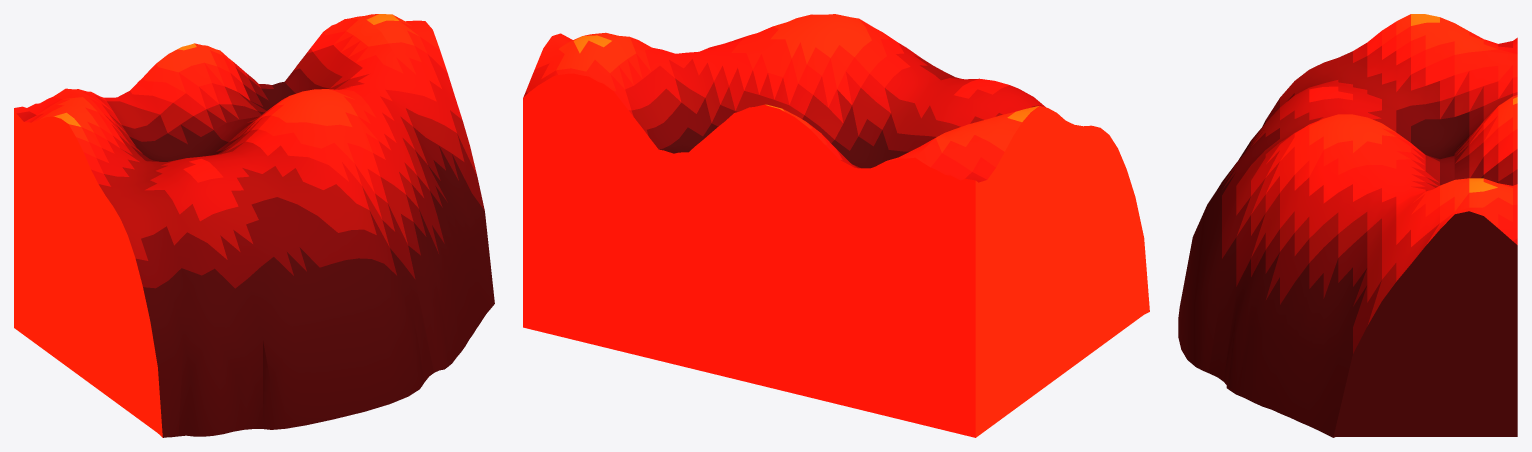
The model's file is core_fire_118.glb.
3 renders of one model, left to right at view 1: azimuth 30°, elevation 25°; view 2: azimuth 150°, elevation 25°; view 3: azimuth 270°, elevation 25°, orthographic. The views are drawn at different scales.
Visible parts, largest first — view 1: core_fire_118_fire; view 2: core_fire_118_fire; view 3: core_fire_118_fire.
Boxes of the visible parts, left/top/right/bottom form: core_fire_118_fire: left=14, top=14, right=494, bottom=437; core_fire_118_fire: left=523, top=14, right=1149, bottom=437; core_fire_118_fire: left=1178, top=14, right=1517, bottom=437.
Size of the model in its own units: 18 by 10.93 by 14.
